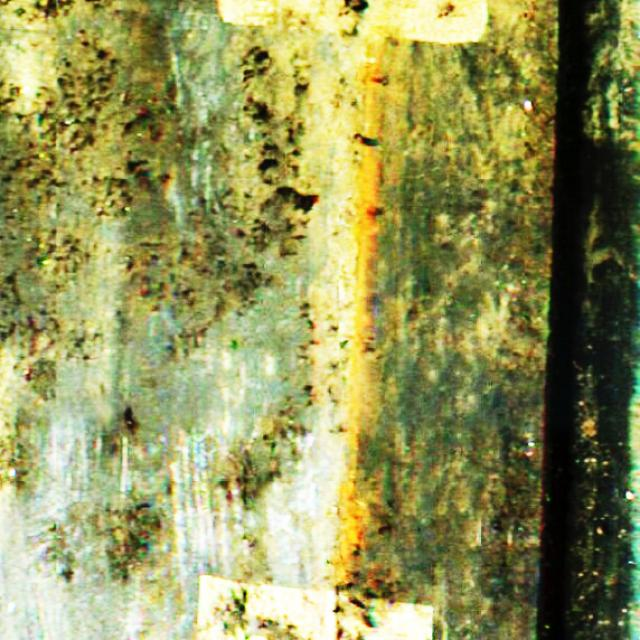Corrosion: (340, 143, 378, 446), (332, 473, 363, 582), (355, 45, 384, 131)
